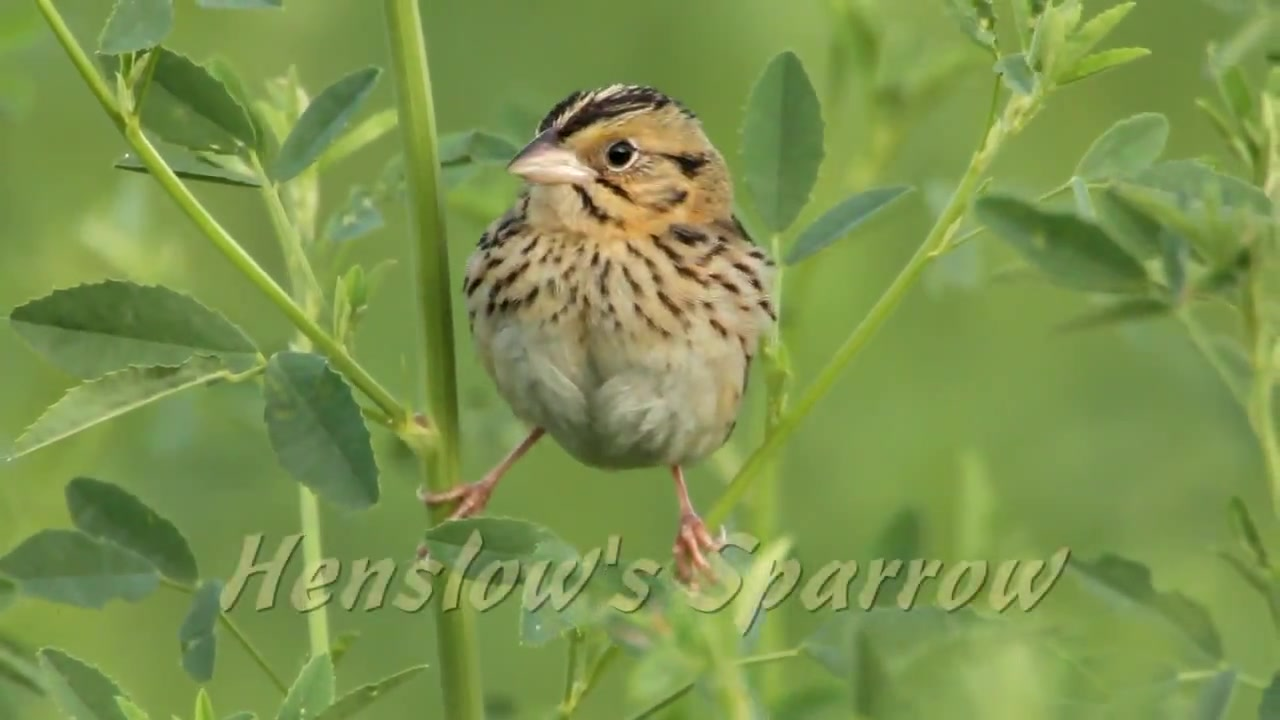bird: (414, 80, 778, 580)
